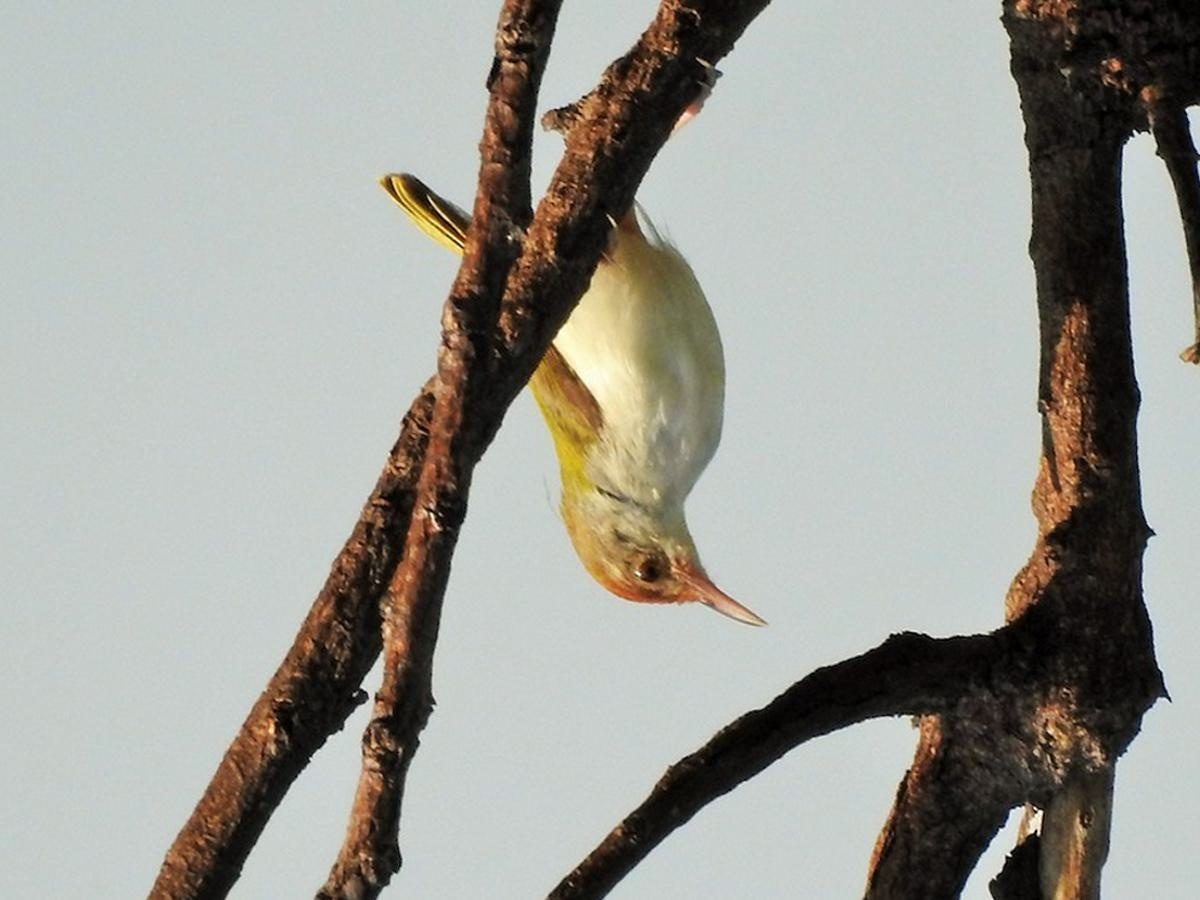tailorbird: (373, 112, 781, 654)
